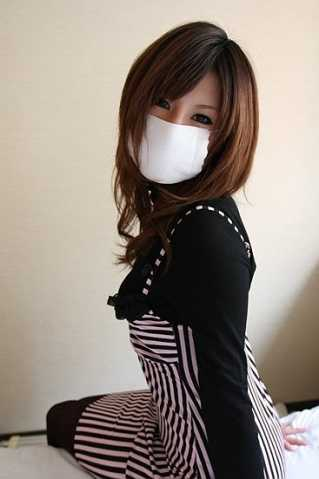face_mask: (130, 59, 216, 182)
